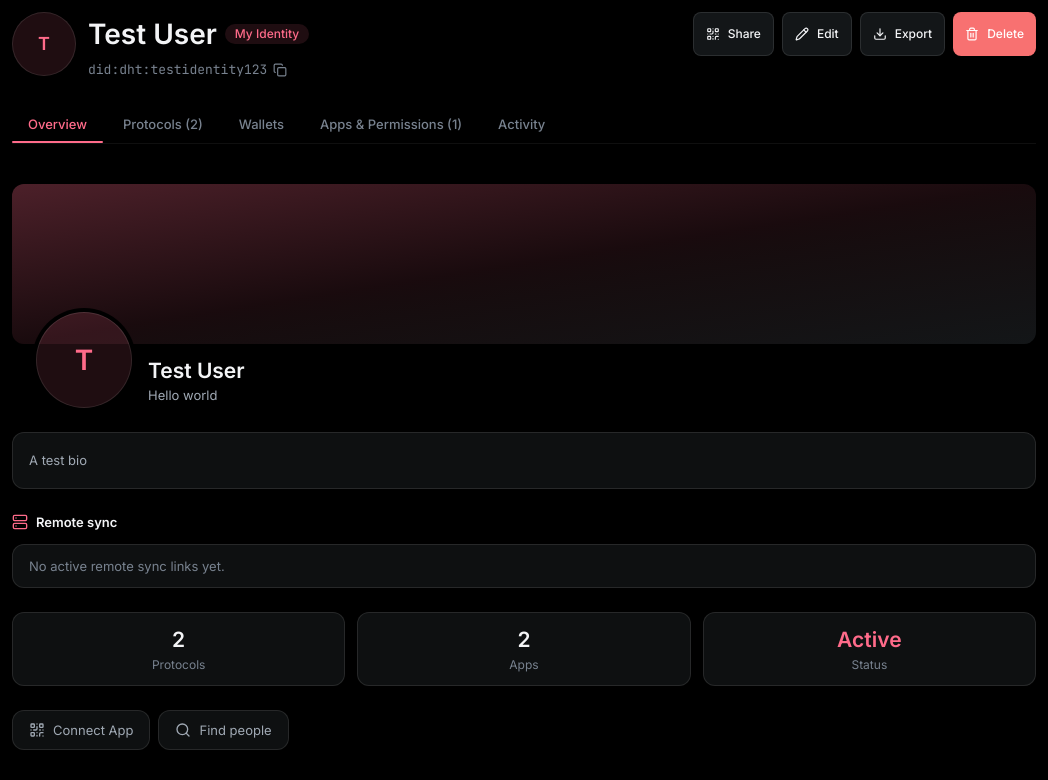
Test case: IdentityDetailsPage › switches to protocols tab when clicked
What coordinates should you click on to do the following:
click the tab "Protocols (2)"
I would click on:
 (163, 124)
Its box is top-left (107, 105), bottom-right (219, 143).
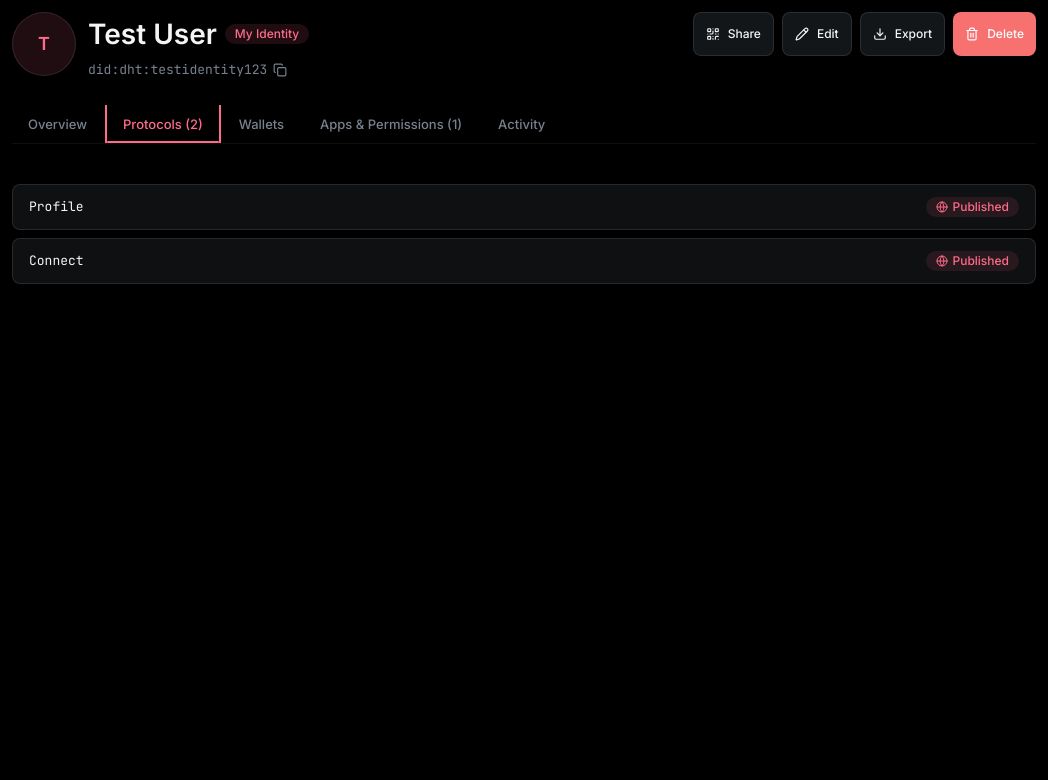
Expected: the text "Connect" is shown, top-left (29, 252), bottom-right (84, 269)
Expected: the text "Profile" is shown, top-left (29, 198), bottom-right (84, 215)
